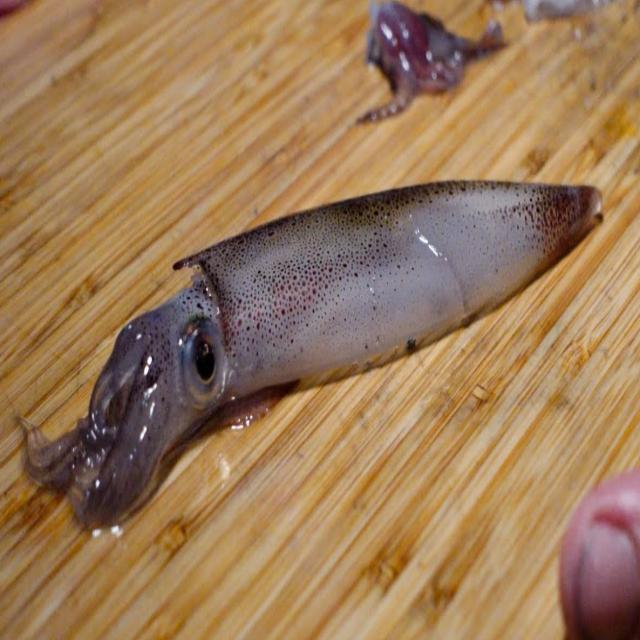SQUID: (12, 134, 623, 558)
